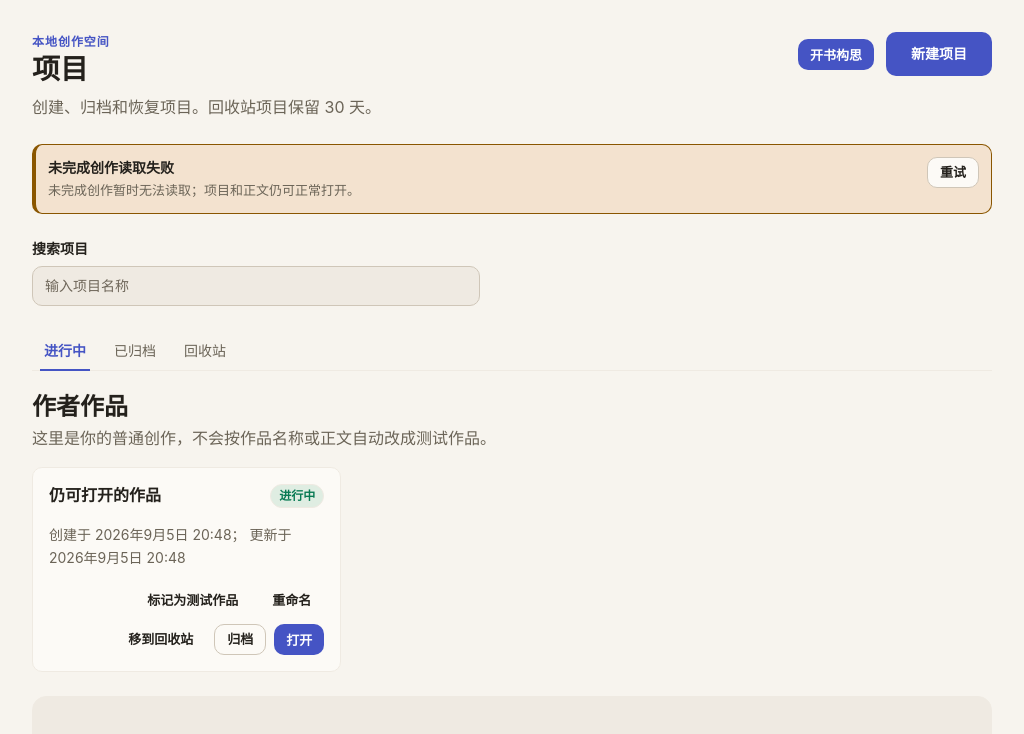
Test: ProjectsPage library states › keeps the project list usable and offers retry when unfinished journeys cannot be read
The image size is (1024, 734).
Expected: the heading "仍可打开的作品" is shown, [49,486,161,507]
Expected: the text "未完成创作读取失败" is shown, [48,159,174,176]
What coordinates should you click on to do the following:
click the button "重试"
I would click on:
 (953, 173)
Its box is [927,157,979,188].
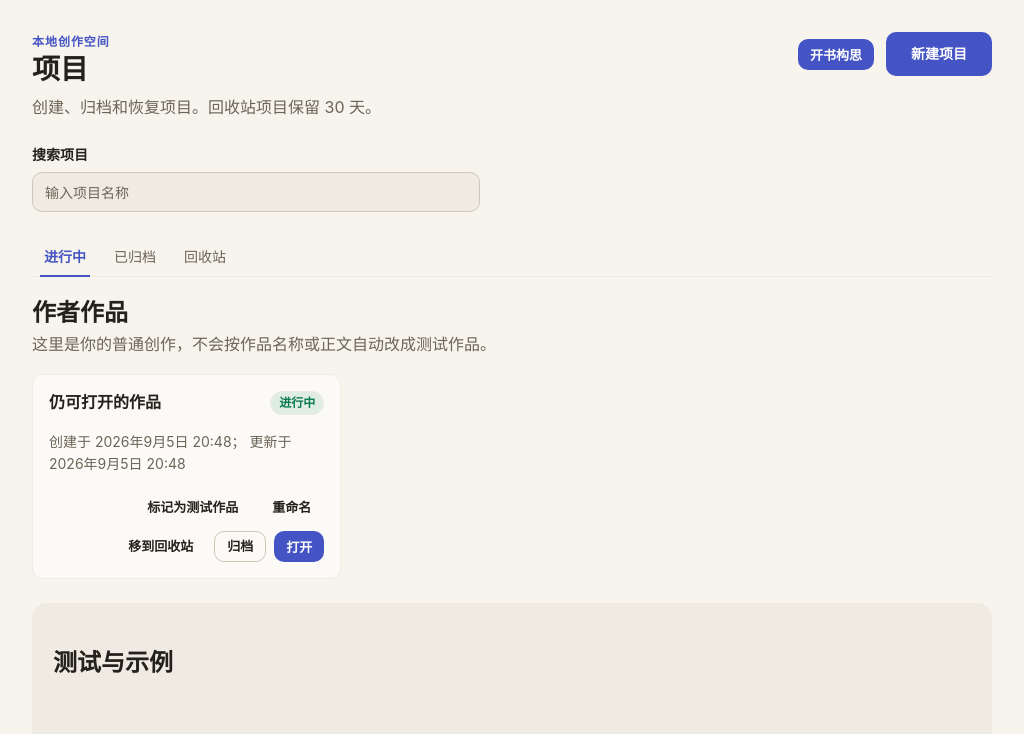
Now the text "未完成创作读取失败" is gone
